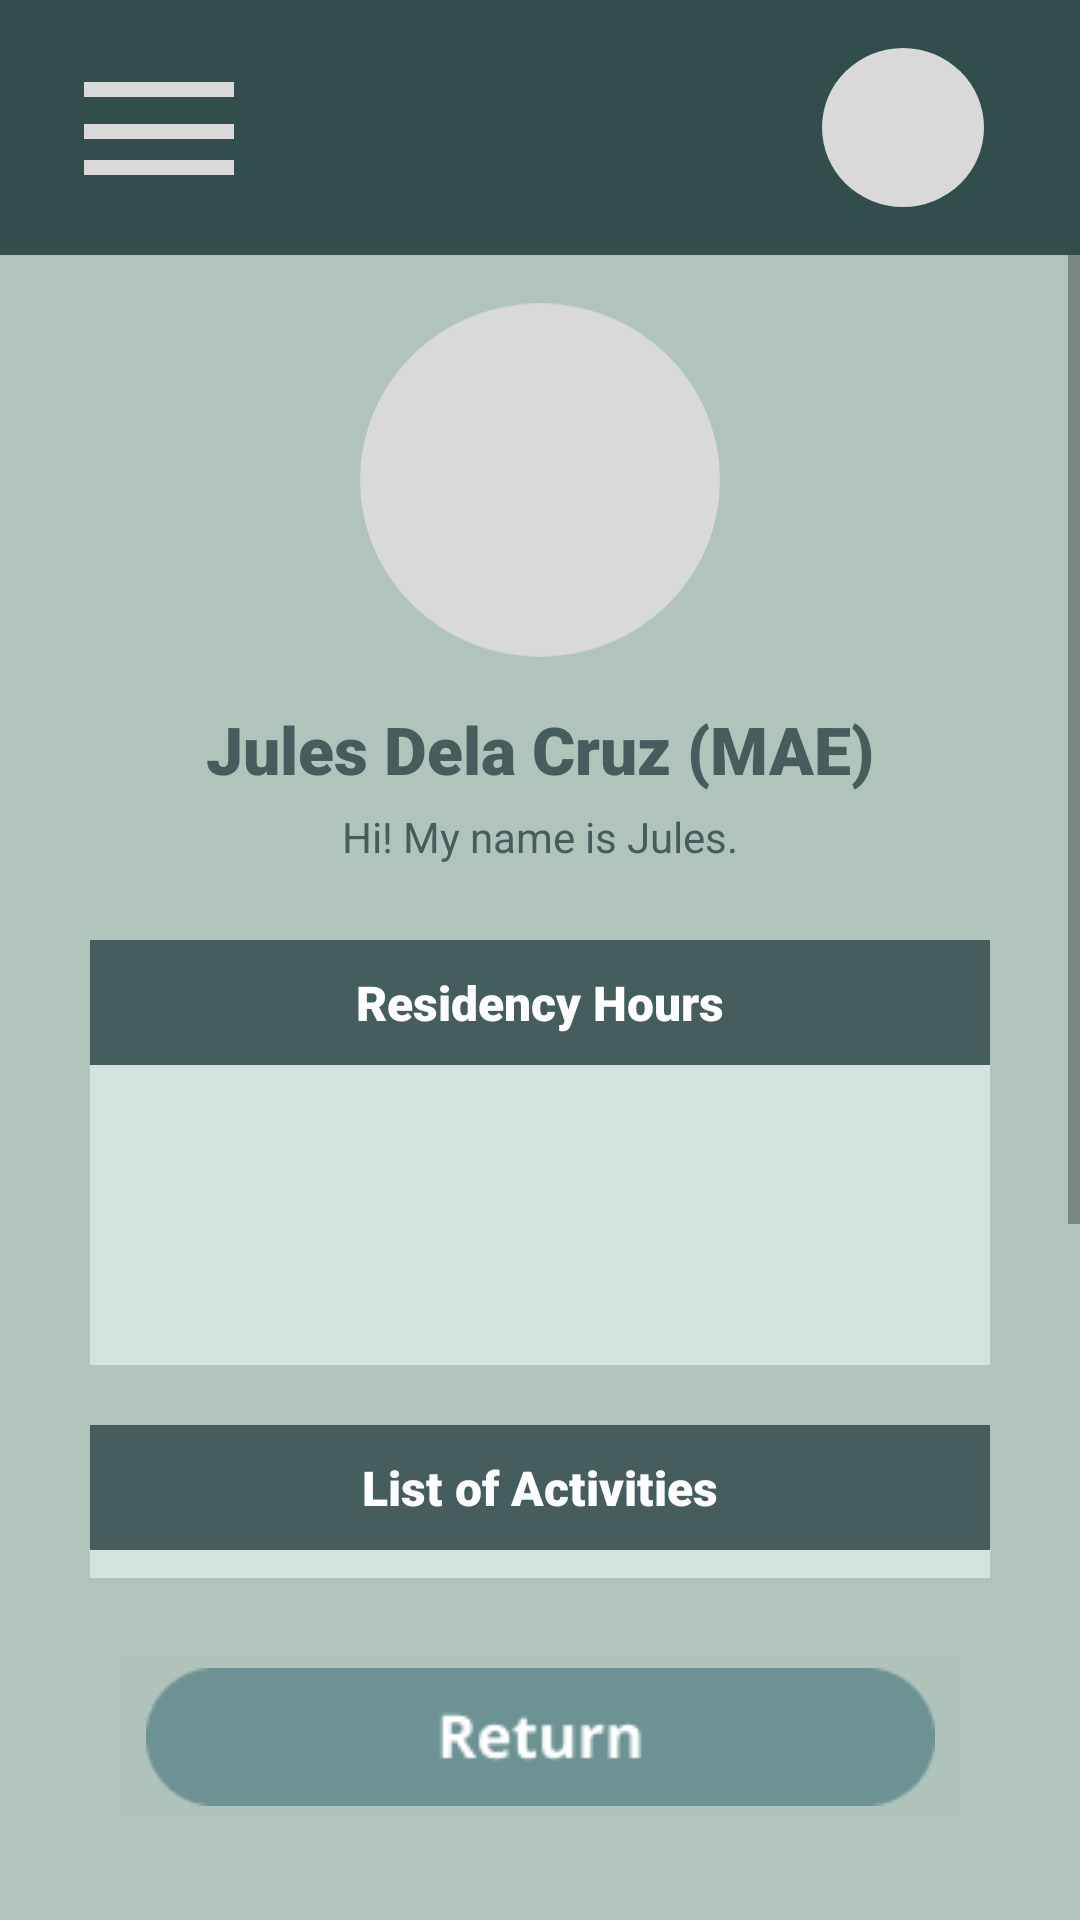

Icons on this 1080×1920 Android screen, each with its box as (x1, y1, x2, y2):
menubtn: (84, 82, 234, 175)
